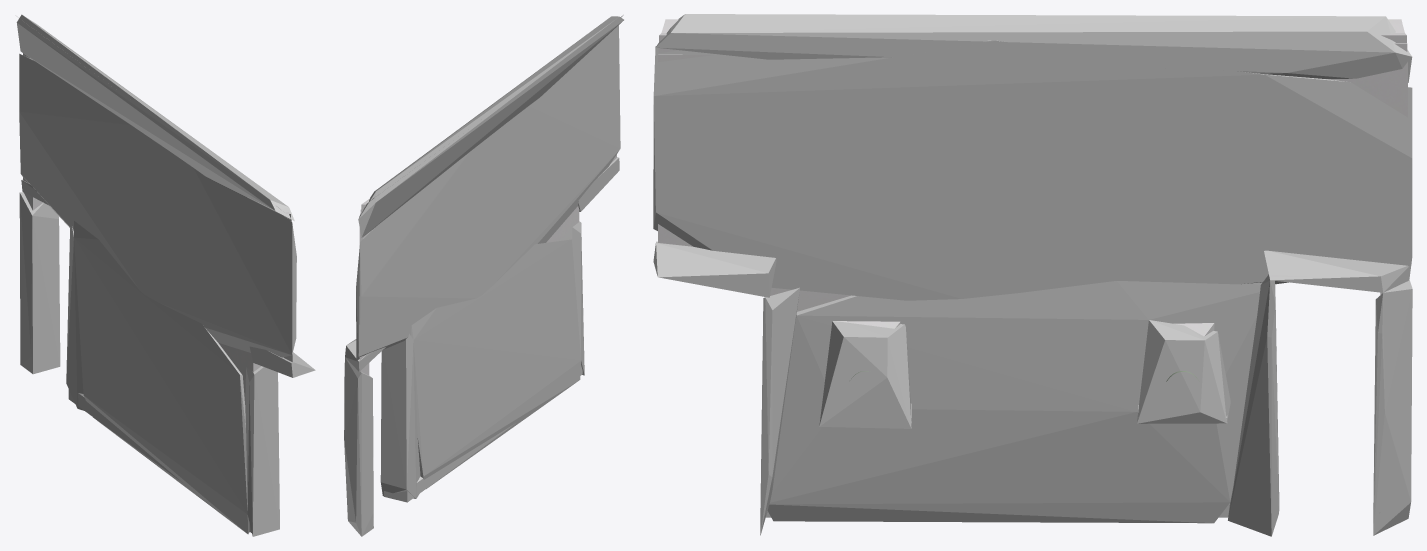
The model's file is SM_Wall_kitchen_5.fbx.
3 renders of one model, left to right at view 1: azimuth 30°, elevation 25°; view 2: azimuth 150°, elevation 25°; view 3: azimuth 270°, elevation 25°, orthographic. The views are drawn at different scales.
Parts seen in each view (by area): view 1: SM_Wall_kitchen_5_ConvexHulls, SM_Wall_kitchen_5; view 2: SM_Wall_kitchen_5_ConvexHulls, SM_Wall_kitchen_5; view 3: SM_Wall_kitchen_5_ConvexHulls, SM_Wall_kitchen_5.
Boxes of the visible parts, left/top/right/bottom form: SM_Wall_kitchen_5_ConvexHulls: left=16, top=14, right=315, bottom=536; SM_Wall_kitchen_5: left=15, top=15, right=292, bottom=532; SM_Wall_kitchen_5_ConvexHulls: left=344, top=16, right=623, bottom=536; SM_Wall_kitchen_5: left=347, top=15, right=623, bottom=508; SM_Wall_kitchen_5_ConvexHulls: left=653, top=14, right=1412, bottom=536; SM_Wall_kitchen_5: left=658, top=19, right=1407, bottom=517.
Bounding box in the file's own units: 56.49 × 628 × 457.
